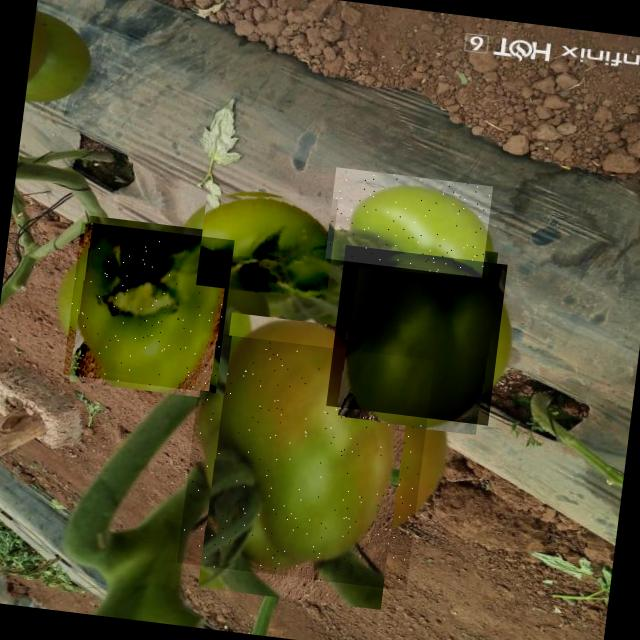Unripe Tomato: (176, 332, 434, 590), (326, 244, 508, 426), (62, 221, 234, 393), (324, 166, 492, 278), (195, 184, 338, 300)
